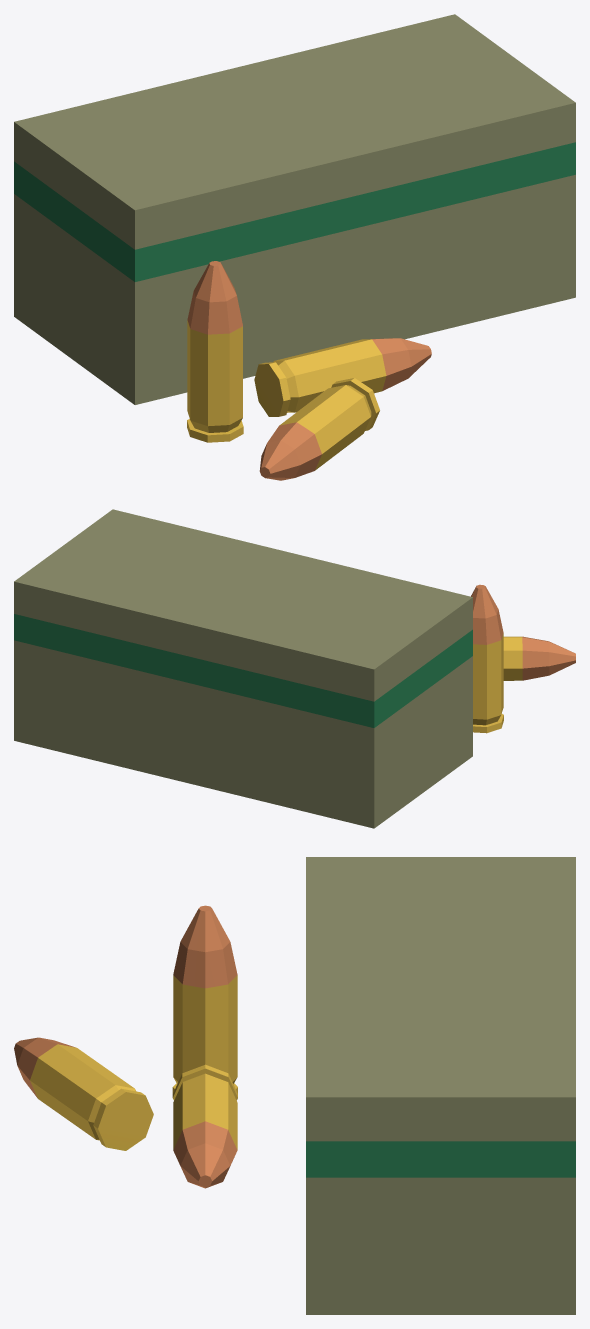
Rendered from pistol_ammo.gltf.
3 renders of one model, top to bottom at view 1: azimuth 30°, elevation 25°; view 2: azimuth 150°, elevation 25°; view 3: azimuth 270°, elevation 25°, orthographic. The views are drawn at different scales.
Parts seen in each view (by area): view 1: Ammo_shotgun; view 2: Ammo_shotgun; view 3: Ammo_shotgun.
Boxes of the visible parts, x1=… form: Ammo_shotgun: x1=14, y1=14, x2=575, y2=480; Ammo_shotgun: x1=14, y1=509, x2=575, y2=828; Ammo_shotgun: x1=14, y1=857, x2=575, y2=1314.
Size of the model in its own units: 0.2311 by 0.0981 by 0.228.
Materials: 1 (1 with a texture image).
